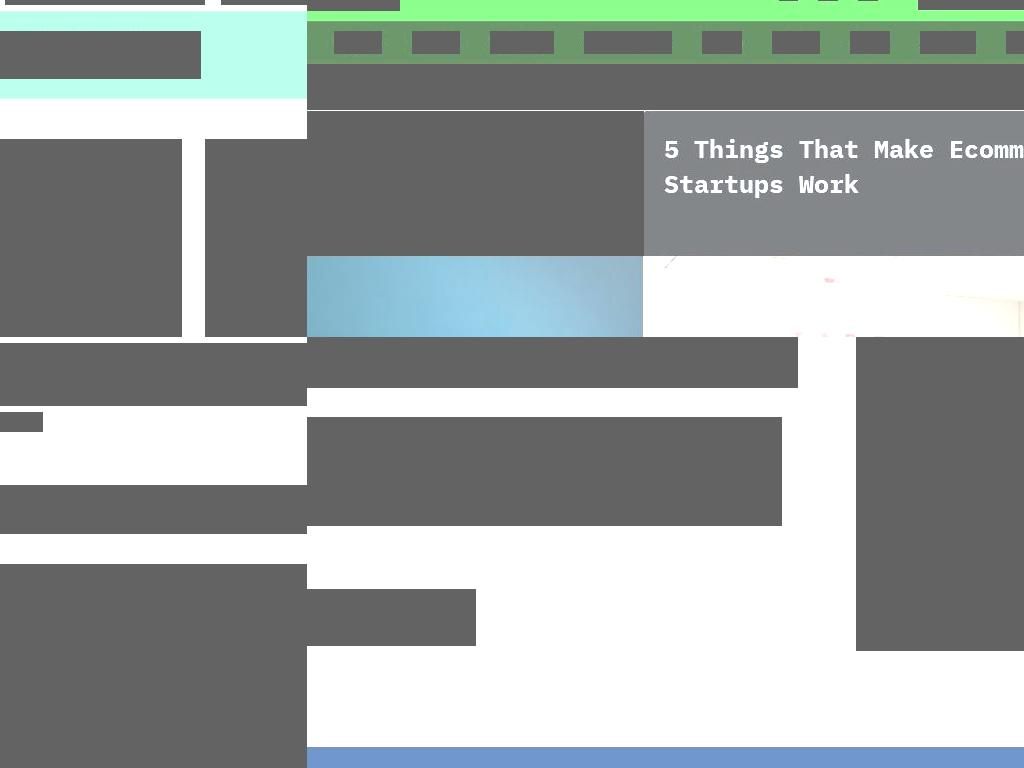button: (307, 64, 1024, 110), (644, 256, 1024, 337), (307, 589, 476, 646), (584, 31, 672, 54), (490, 31, 554, 54), (920, 31, 976, 54), (334, 31, 382, 54), (412, 31, 460, 54), (772, 31, 820, 54), (702, 31, 742, 54), (850, 31, 890, 54), (1006, 31, 1024, 54)
heading: (307, 111, 644, 256), (644, 111, 1024, 221), (307, 337, 798, 388), (0, 343, 307, 406)
image: (856, 337, 1024, 651), (0, 139, 182, 337), (644, 256, 1024, 337), (205, 139, 307, 337), (496, 74, 522, 100)
link: (0, 597, 307, 649)
text: (307, 417, 782, 526), (0, 629, 307, 768), (0, 564, 307, 617), (0, 485, 307, 534), (0, 31, 201, 79), (531, 74, 792, 100), (0, 412, 43, 432)
